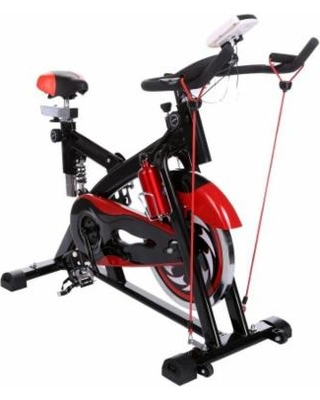gym_bike: (9, 13, 306, 384)
